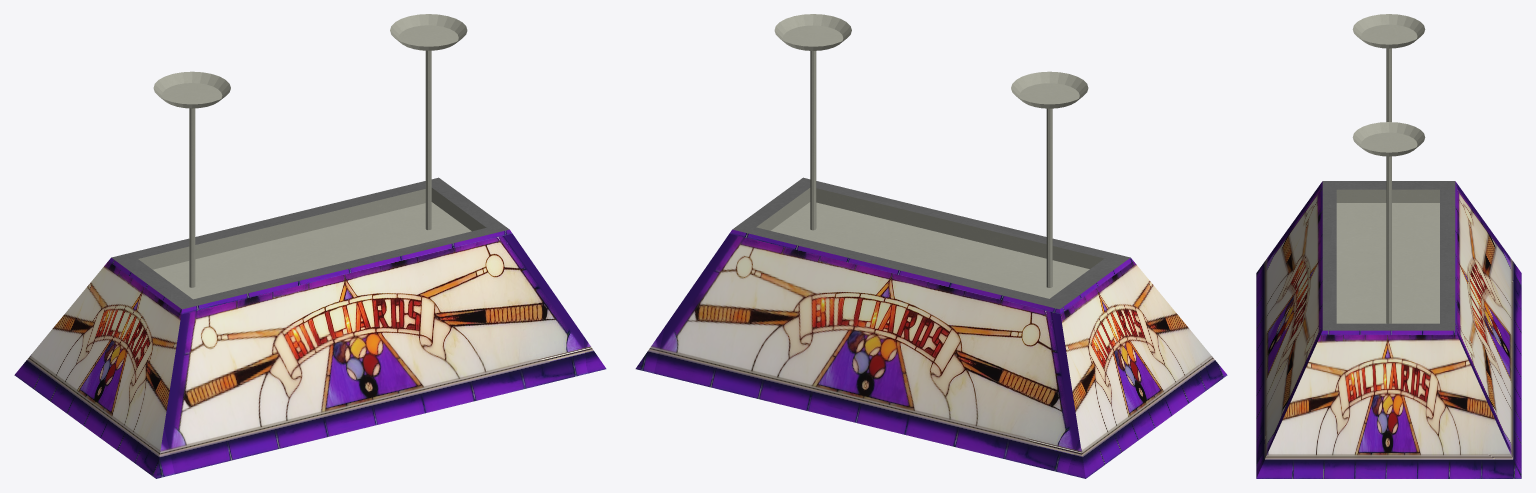
The model's file is TableLight3.fbx.
The picture shows the model from 3 angles, left to right: view 1: azimuth 30°, elevation 25°; view 2: azimuth 150°, elevation 25°; view 3: azimuth 270°, elevation 25°; orthographic projection. The views are drawn at different scales.
Visible parts, largest first — view 1: Empty_Mesh; view 2: Empty_Mesh; view 3: Empty_Mesh.
Boxes of the visible parts, x1,y1,x2,y2 form: Empty_Mesh: (14, 14, 606, 478); Empty_Mesh: (635, 14, 1227, 478); Empty_Mesh: (1256, 14, 1521, 478).
Size of the model in its own units: 168 by 111 by 91.44.
